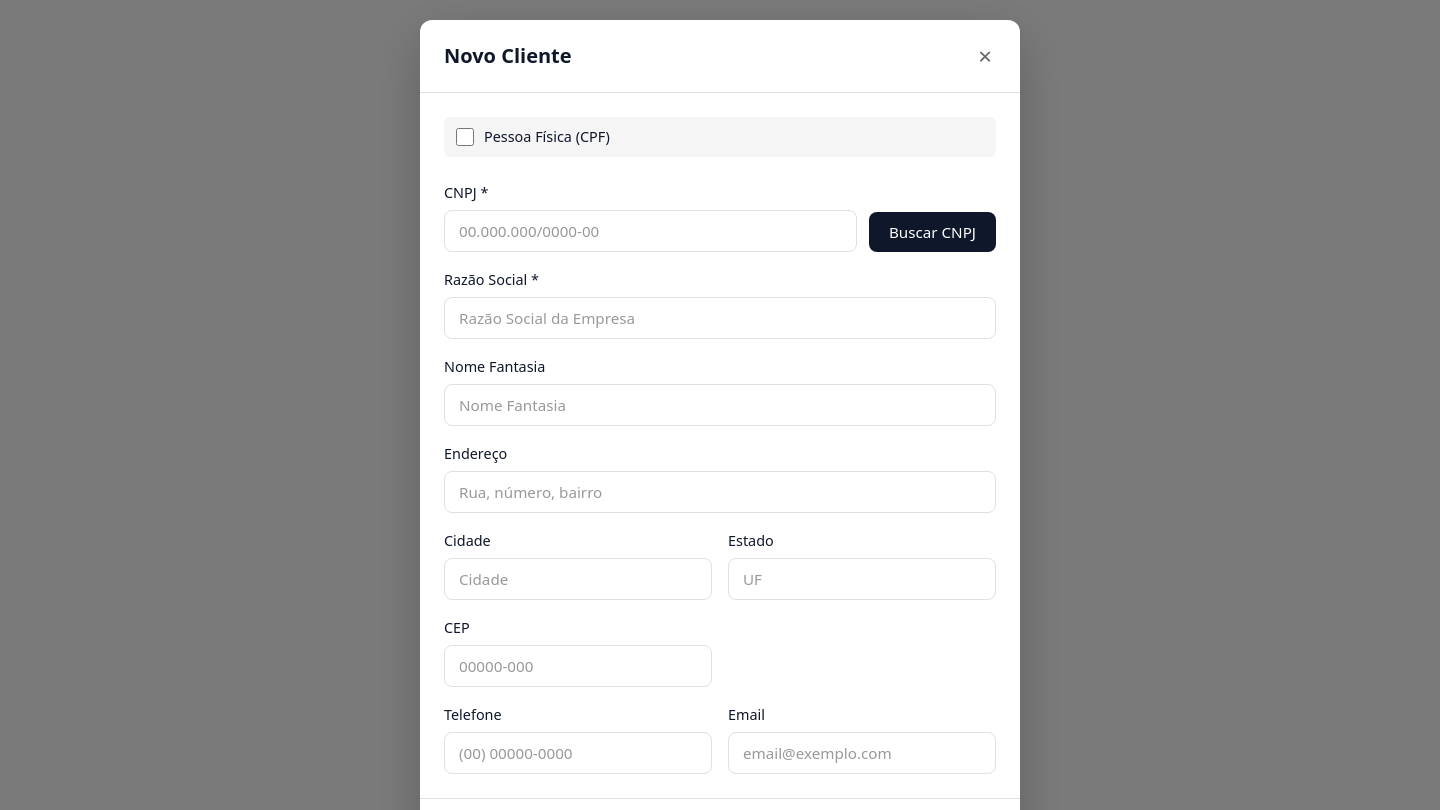
Scenario: ClienteModal › deve trocar para pessoa física ao marcar checkbox
The width and height of the screenshot is (1440, 810).
What coordinates should you click on to do the following:
click the checkbox labelled "Pessoa Física (CPF)"
I would click on:
 (465, 137)
Its box is top-left (456, 128), bottom-right (474, 146).
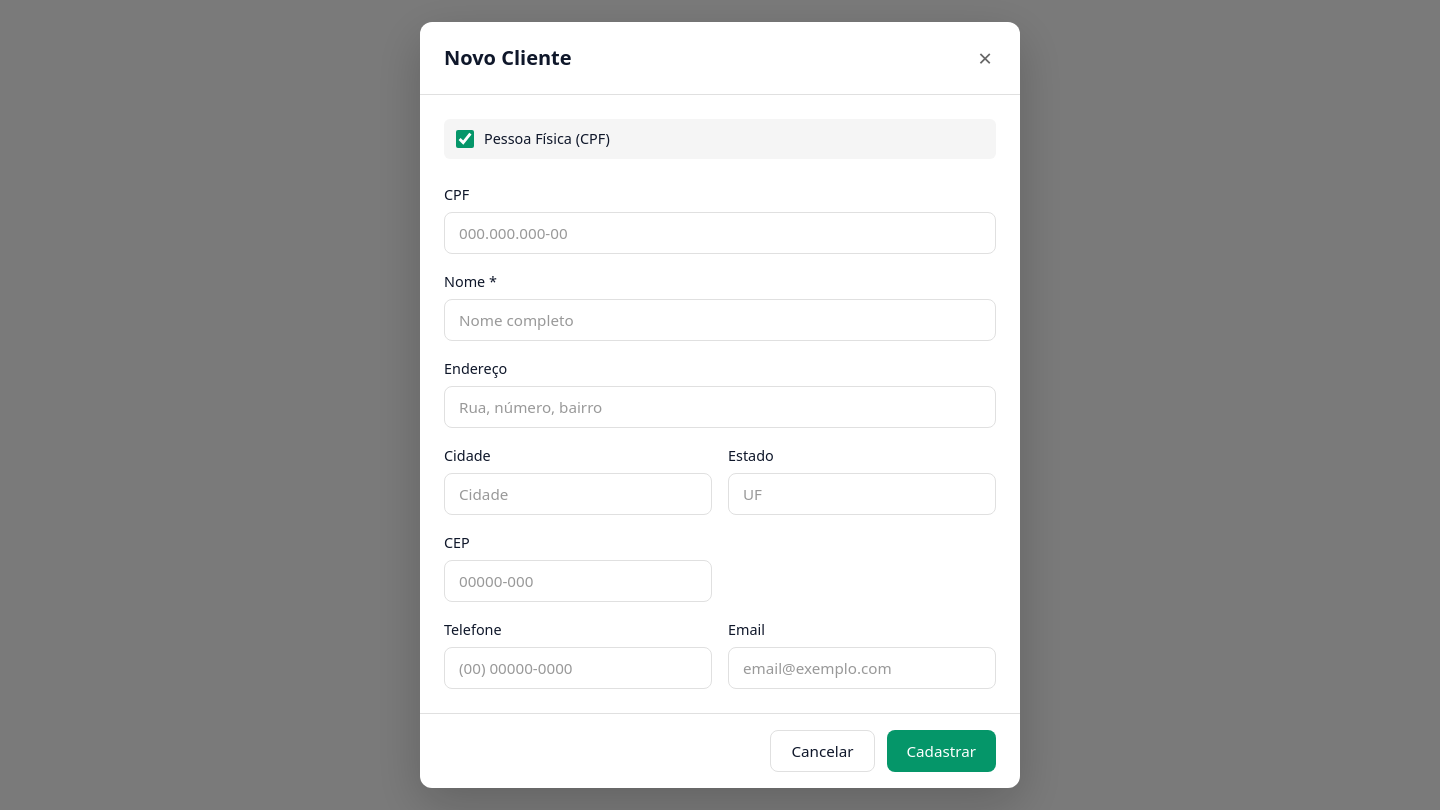
Check: the text "CPF" is shown, box top-left (444, 185), bottom-right (469, 204)
Check: the text "Nome *" is shown, box top-left (444, 272), bottom-right (497, 291)
Check: the text "Nome Fantasia" is gone
